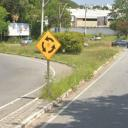Rotatoria: (34, 30, 62, 61)
